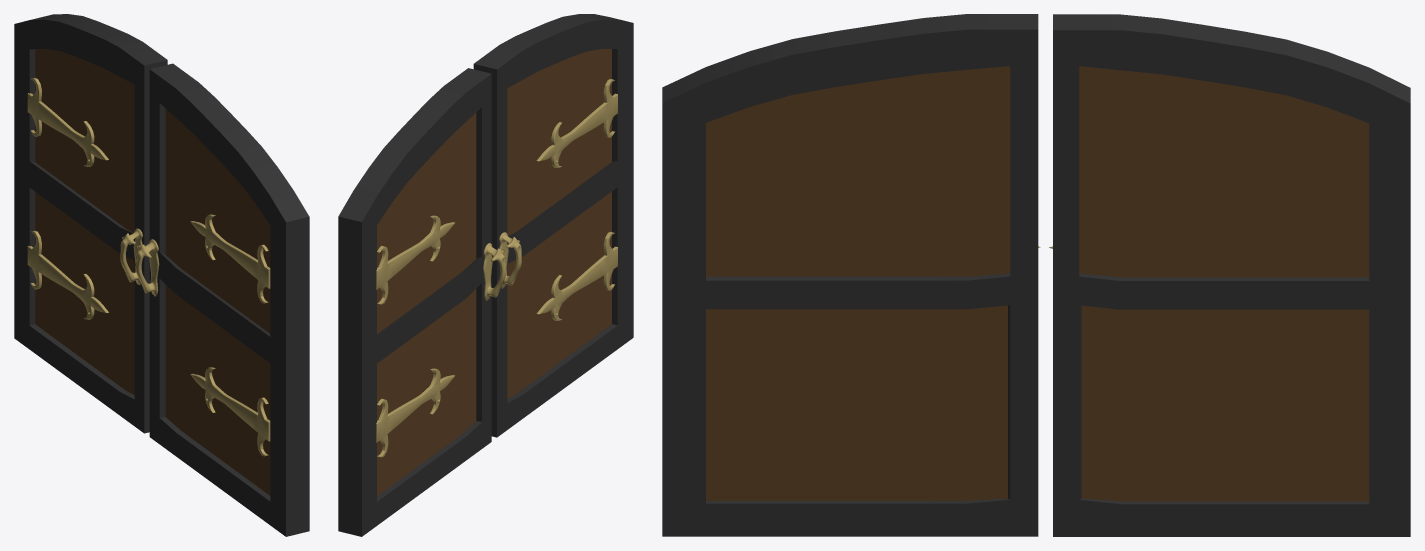
Rendered from puerta2.fbx.
The picture shows the model from 3 angles, left to right: view 1: azimuth 30°, elevation 25°; view 2: azimuth 150°, elevation 25°; view 3: azimuth 270°, elevation 25°; orthographic projection. The views are drawn at different scales.
Parts seen in each view (by area): view 1: Cube.041; view 2: Cube.041; view 3: Cube.041.
Boxes of the visible parts, x1,y1,x2,y2 form: Cube.041: (14, 14, 309, 536); Cube.041: (338, 14, 633, 536); Cube.041: (662, 14, 1410, 536).
Bounding box in the file's own units: 72.43 × 612 × 818.
